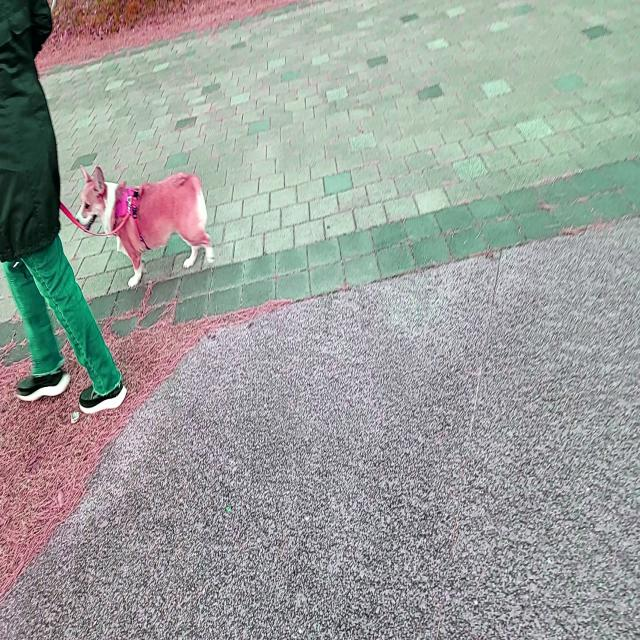Leashed_Dog: (14, 164, 215, 290)
